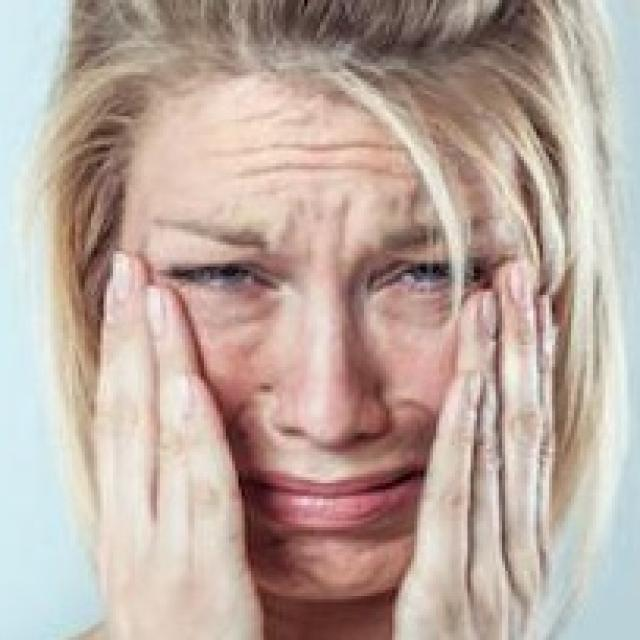Depress: (116, 68, 560, 604)
